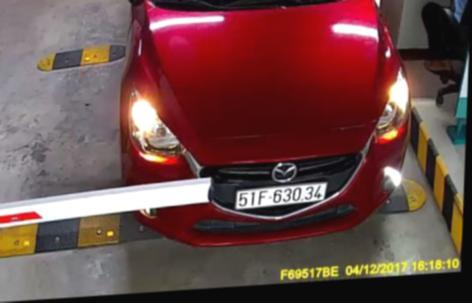License_Plate: (233, 179, 329, 210)
